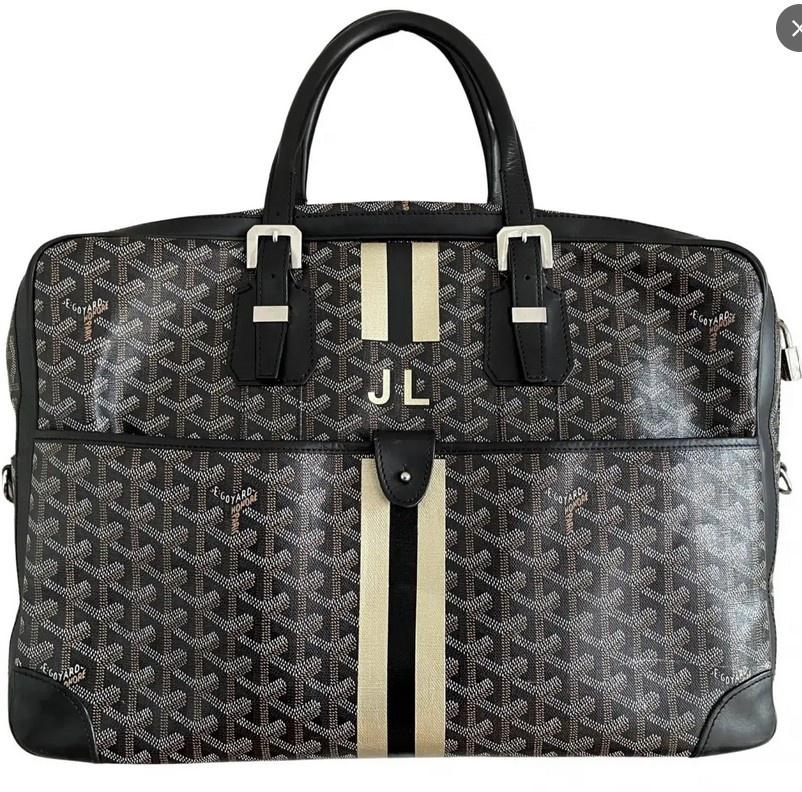GOYARD: (19, 239, 773, 759)
